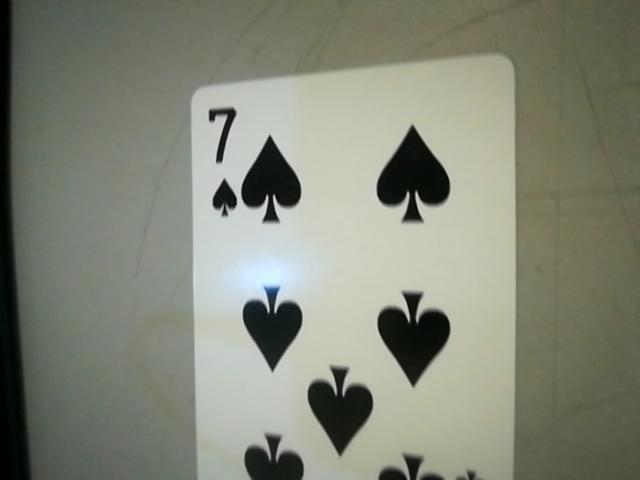ht 7: (191, 94, 244, 226)
